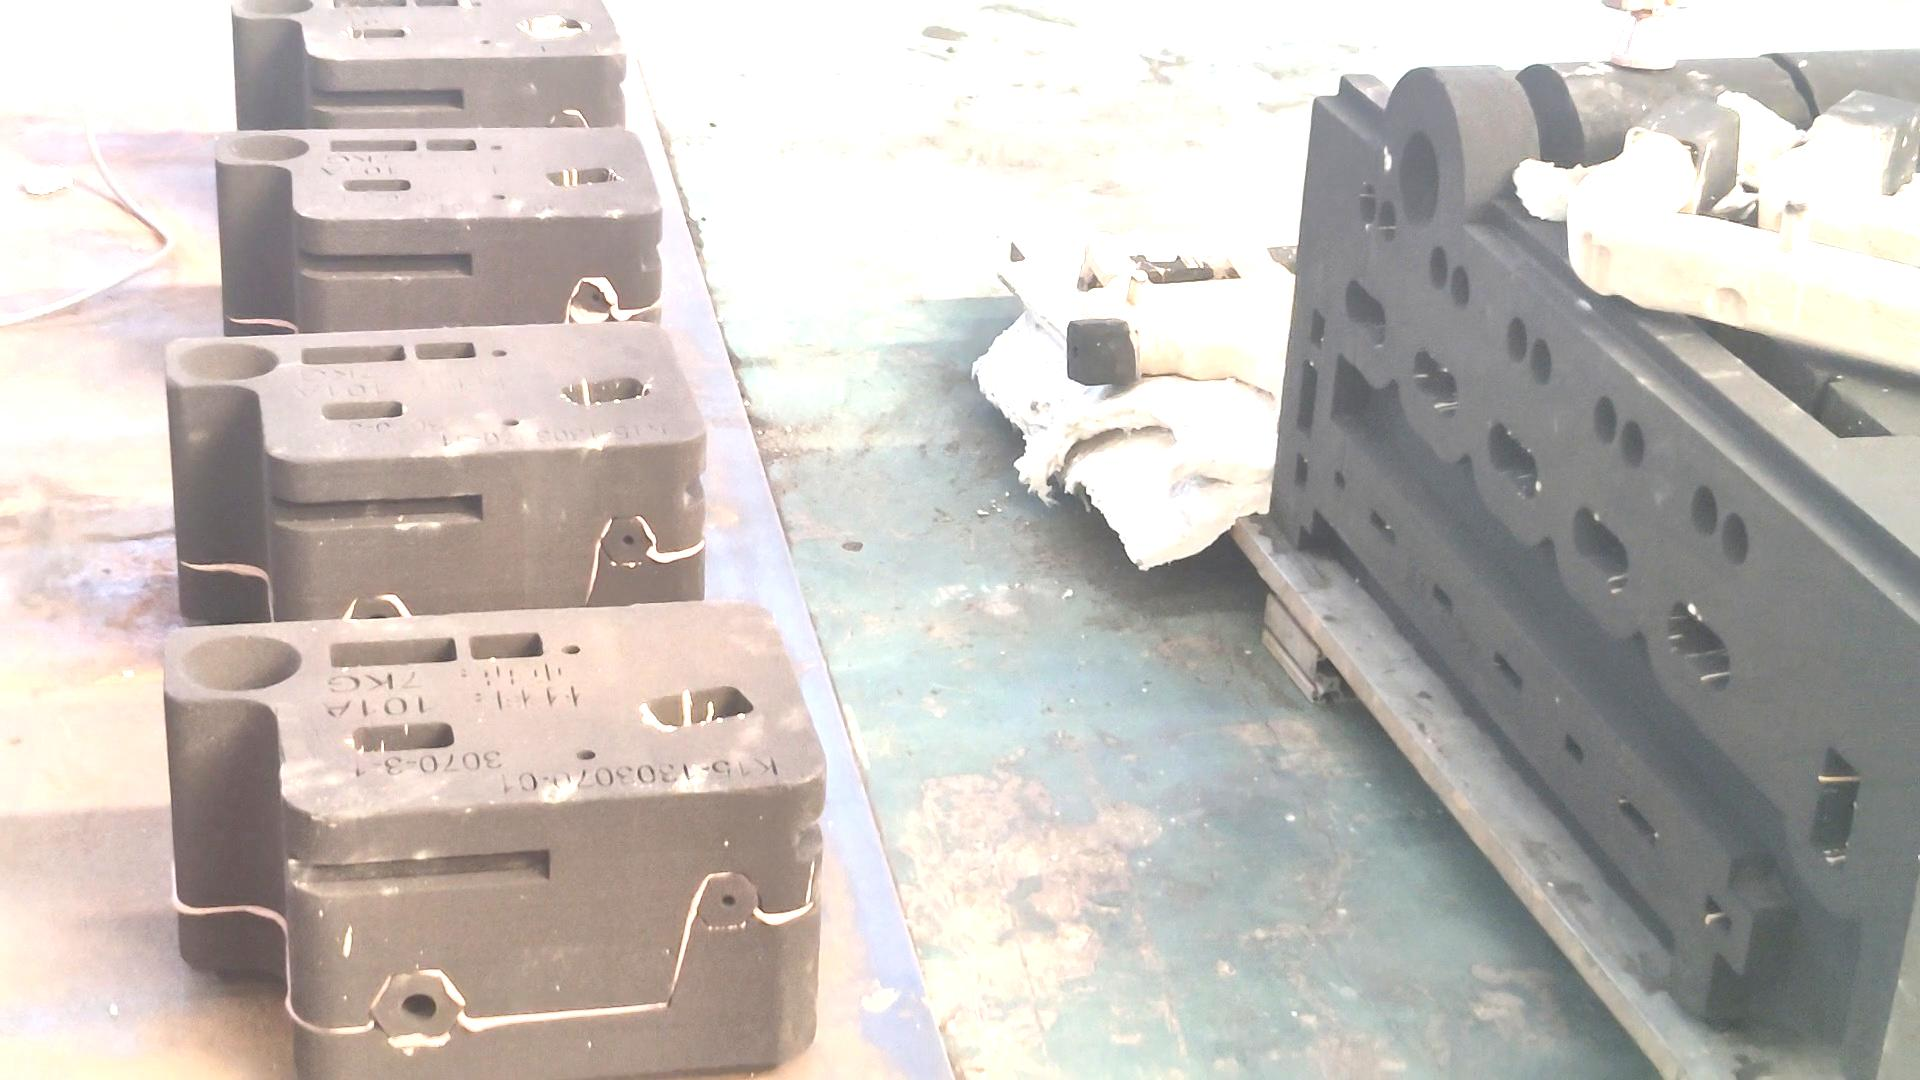pouring hole: (177, 633, 301, 694), (171, 339, 281, 382), (1395, 132, 1443, 229), (219, 132, 313, 165), (228, 1, 311, 18)
